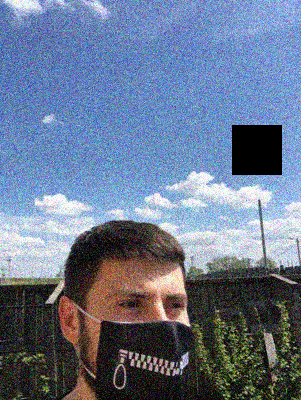with_mask: (85, 277, 194, 400)
